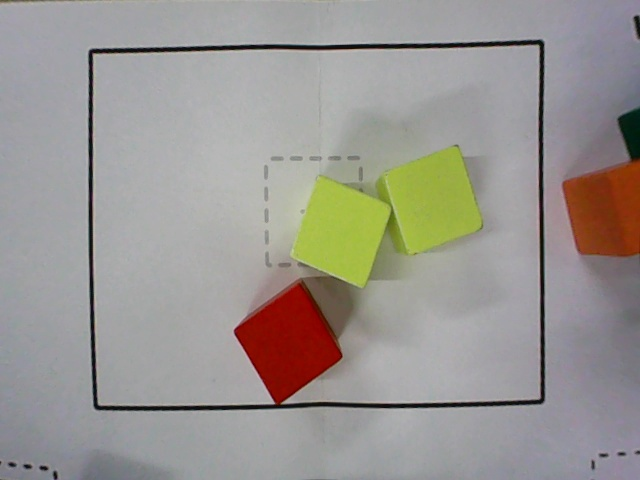upside of small cube: (231, 283, 344, 406), (289, 174, 393, 290), (384, 143, 483, 256), (608, 161, 639, 255)
